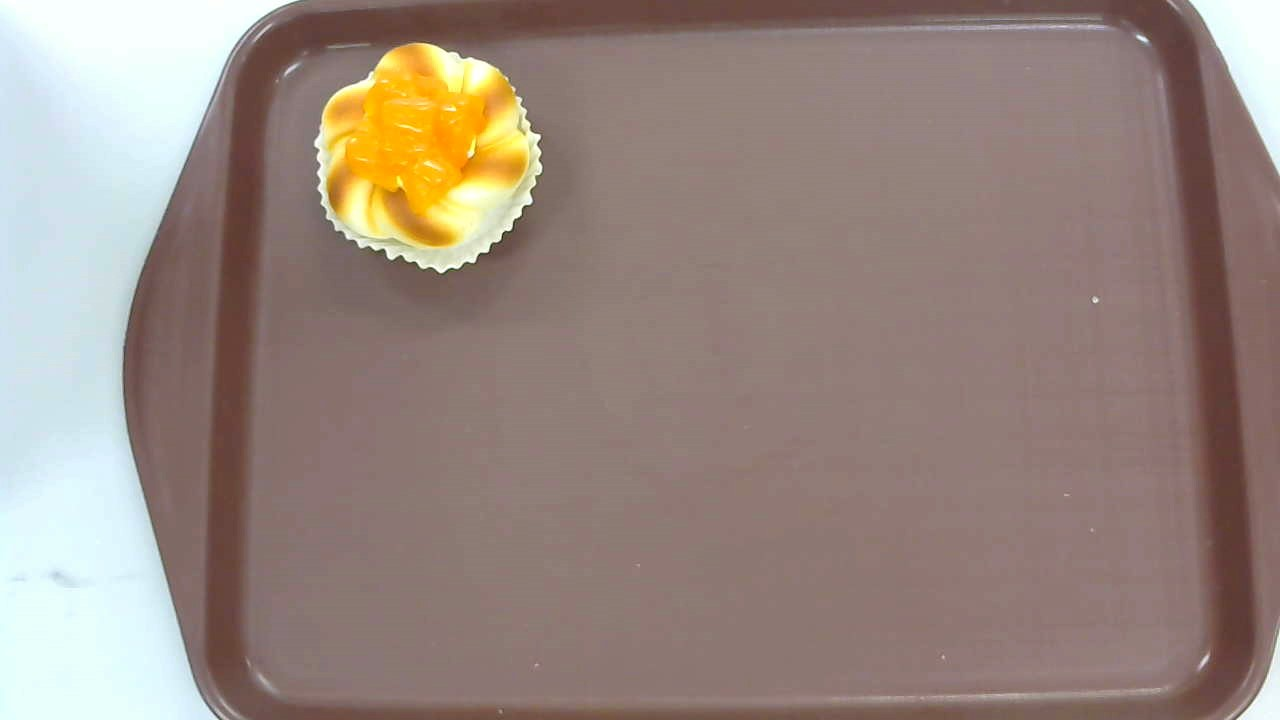mango tart: (314, 40, 542, 274)
